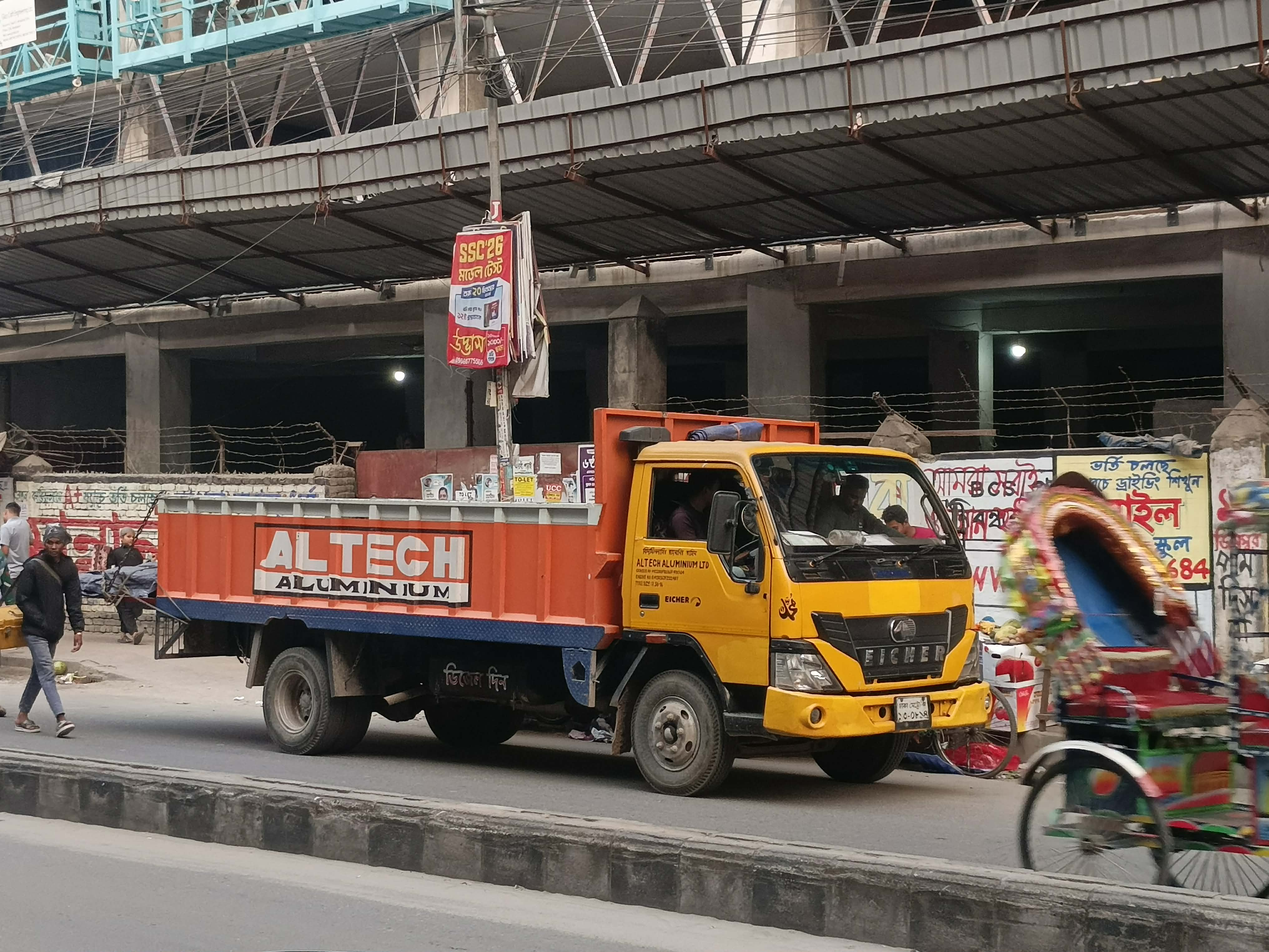Truck: (109, 404, 1004, 789)
auto-ricksaw: (980, 459, 1269, 891)
